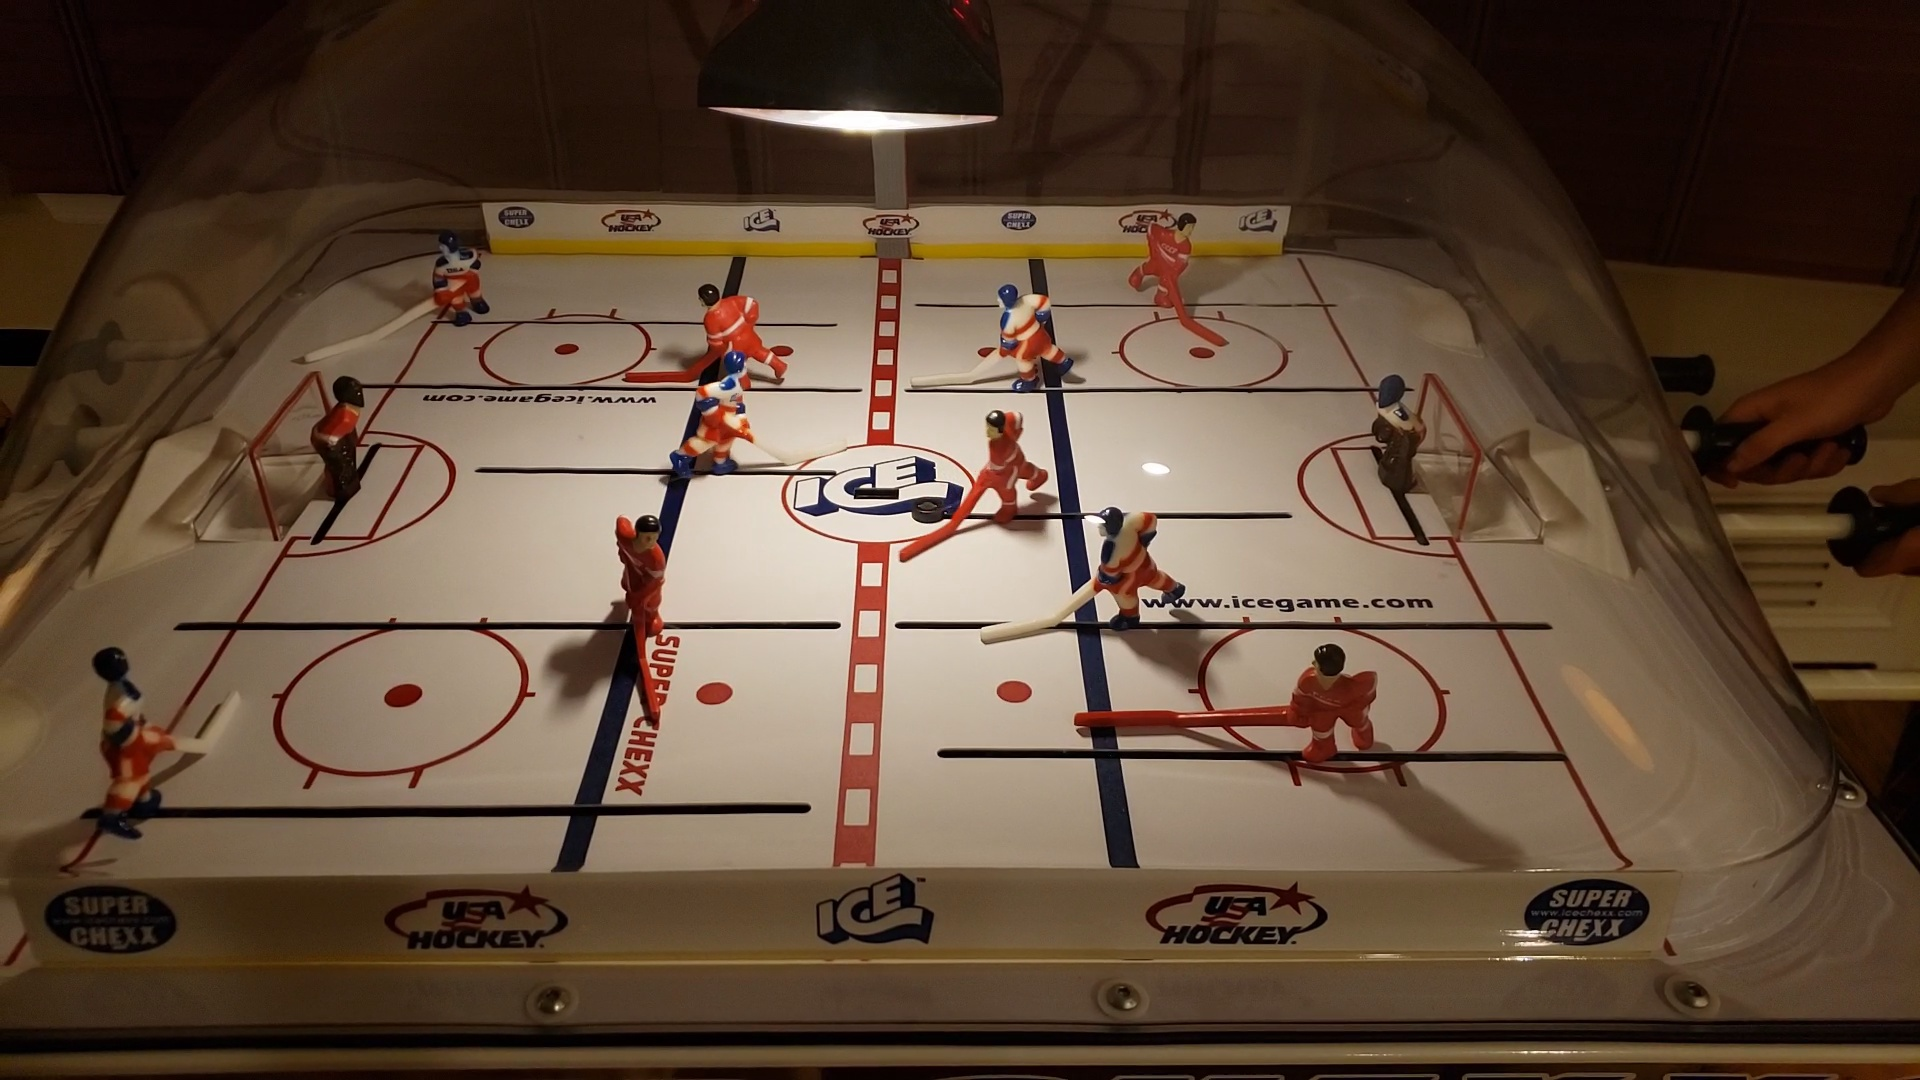puck: (902, 495, 953, 527)
